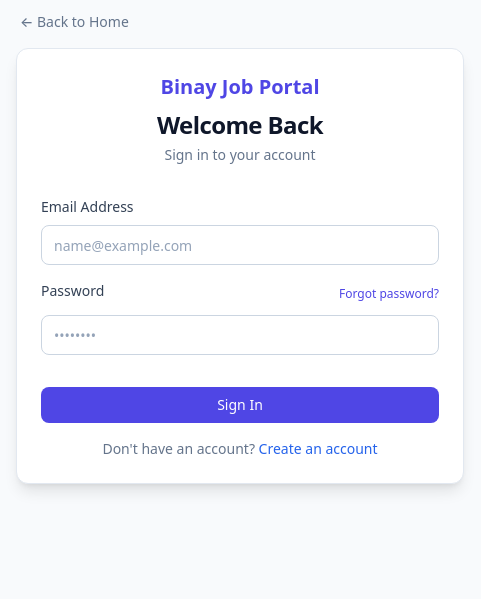
Test: Batch 2 Auth Pages & Flow Test Suite › Login Page › handles server login failure cleanly with generic verification help message
Type "wrong@example.com" into the field with test id "login-email-input".
click(240, 245); type("wrong@example.com")  # box top-left (41, 225), bottom-right (439, 265)
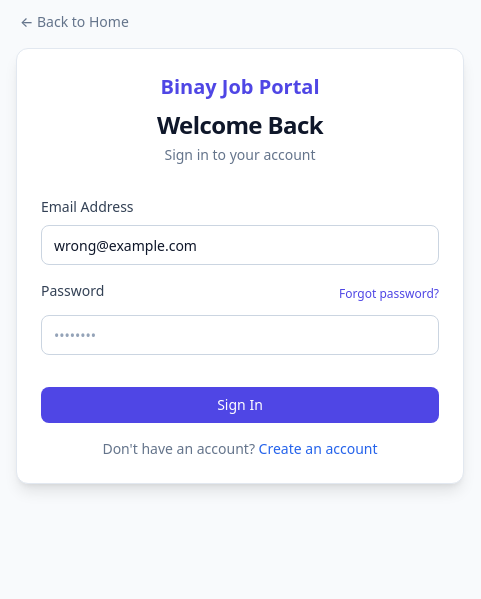
Type "wrongpass" into the password field with test id "login-password-input".
click(240, 335); type("wrongpass")  # box top-left (41, 315), bottom-right (439, 355)
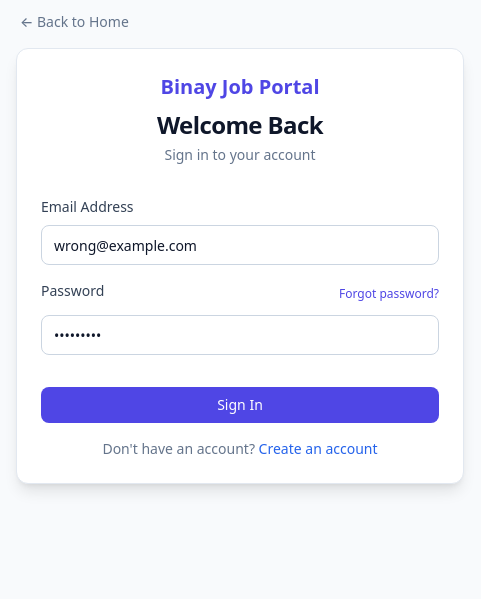
Submit the form with test id "login-form", box top-left (41, 181), bottom-right (439, 459)
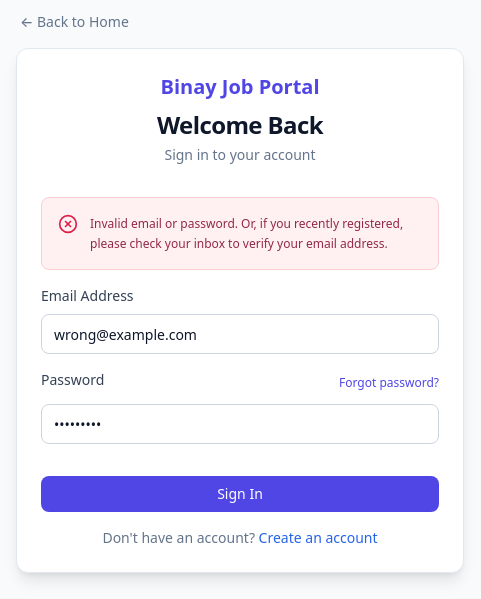
Check: the message with test id "login-error-alert" is shown, box top-left (41, 197), bottom-right (439, 270)
Check: the text "Invalid email or password. Or, if you recently registered, please check your inbox to verify your email address." is shown, box top-left (90, 215), bottom-right (403, 252)
